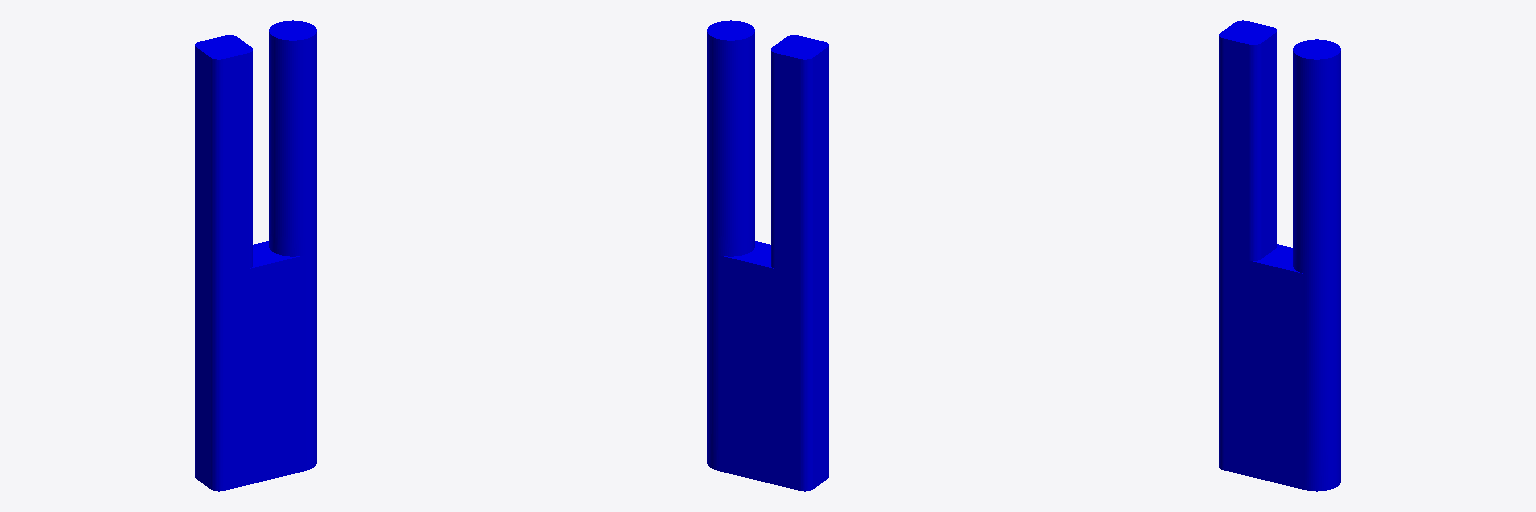
The robot description file, URDF, robot "board3_block13":
<?xml version="1.0"?>
<robot name="board3_block13">
    <link name="board3_block13">
        <visual>
            <origin xyz="0 0 0 " rpy=" 0 0 0"/>
            <geometry>
                <mesh filename="../meshes/SIMO_Board3_Block13.stl" scale="0.001 0.001 0.001"/>
            </geometry>
            <material name="red">
                <color rgba="0.0 0.0 1.0 1.0"/>
            </material>
        </visual>
        <collision>
            <origin xyz="0 0 0" rpy="0 0 0"/>
            <geometry>
                <mesh filename="../meshes/SIMO_Board3_Block13.stl" scale="0.001 0.001 0.001"/>
            </geometry>
        </collision>
    </link>
</robot>

--- Facts derived from the render (not from the file) ---
The picture shows the robot from 3 angles, left to right: view 1: azimuth 30°, elevation 25°; view 2: azimuth 150°, elevation 25°; view 3: azimuth 330°, elevation 25°; orthographic projection.
Model board3_block13 with 1 links and 0 joints (none), rooted at board3_block13, posed all joints at 0.
Links seen in each view (by area): view 1: board3_block13; view 2: board3_block13; view 3: board3_block13.
Link boxes in pixels (x1,y1,x2,y2): board3_block13: (195, 20, 316, 491); board3_block13: (707, 20, 828, 491); board3_block13: (1219, 20, 1340, 491).
Size in the robot's own frame: 0.04 by 0.015 by 0.15 metres.
Meshes: 1 distinct files referenced, 1 mesh visuals loaded (1 ASCII STL).
